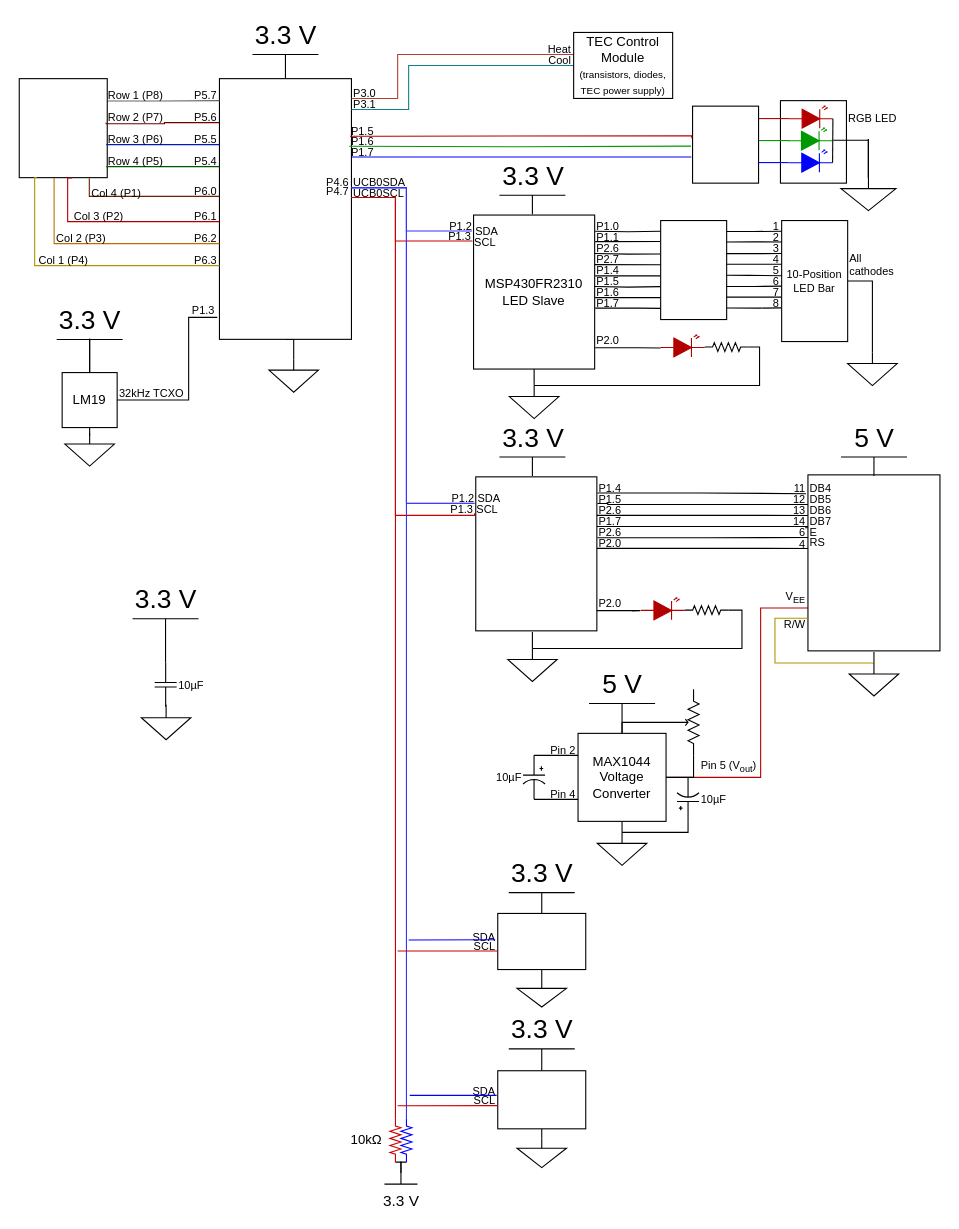
Image size: 959x1229. Some labels were removed from this diagram. Here are the shapes that lost their labels. From the top down, the box of each, then its label:
(18, 78, 107, 178): Keypad 1 2 3 A 4 5 6 B 7 8 9 C * 0 # D
(691, 105, 759, 183): 3x Resistor Block 1kΩ
(218, 78, 351, 339): MSP430FR2355 Microcontroller Master
(660, 219, 727, 320): 8x Resistor Block 1kΩ
(475, 476, 597, 631): MSP430FR2310 LCD Slave
(807, 474, 940, 651): NMTC-S1604xRGHS LCD Display Module
(676, 688, 699, 755): 5kΩ
(497, 912, 586, 970): LM92 Interface Board
(497, 1070, 586, 1129): DS3231 RTC
